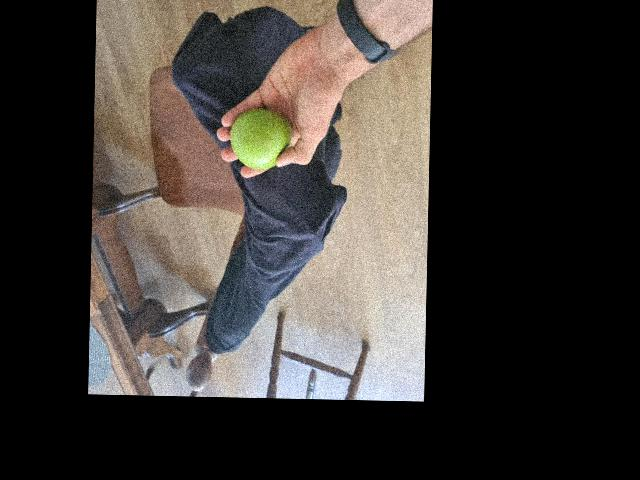apple: (229, 105, 296, 168)
